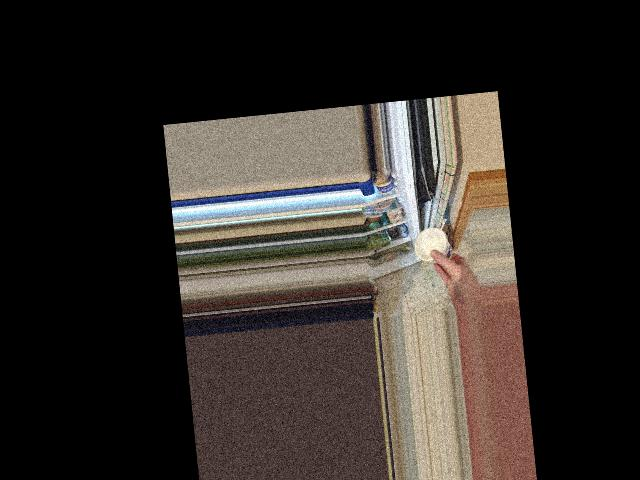cotage: (412, 223, 456, 266)
